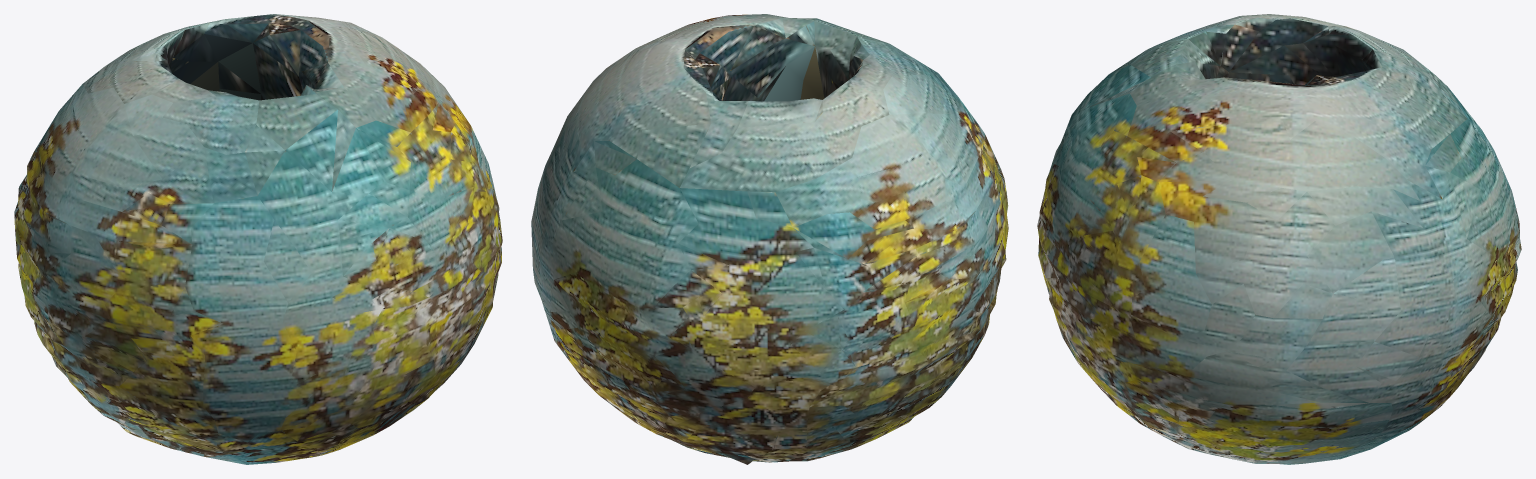
File: AC4 Alex Trees.glb
The picture shows the model from 3 angles, left to right: view 1: azimuth 30°, elevation 25°; view 2: azimuth 150°, elevation 25°; view 3: azimuth 270°, elevation 25°; orthographic projection.
Size of the model in its own units: 1000 by 908 by 989.
1 material, 1 textured.
